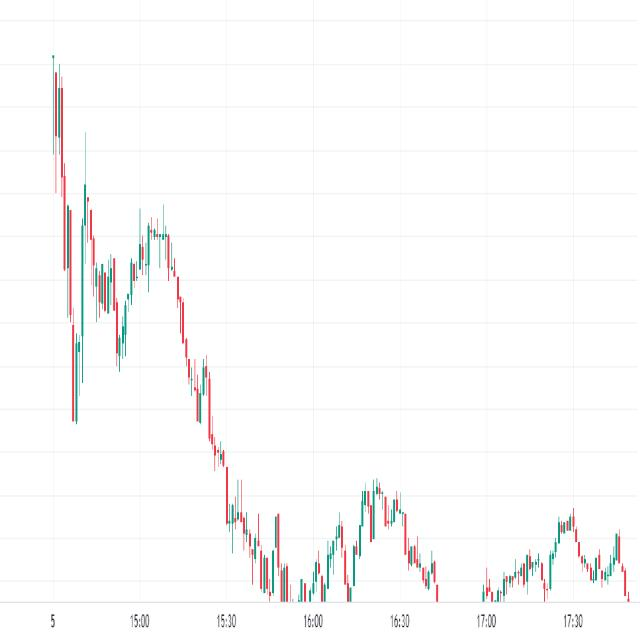Triangle: (45, 21, 170, 516)
